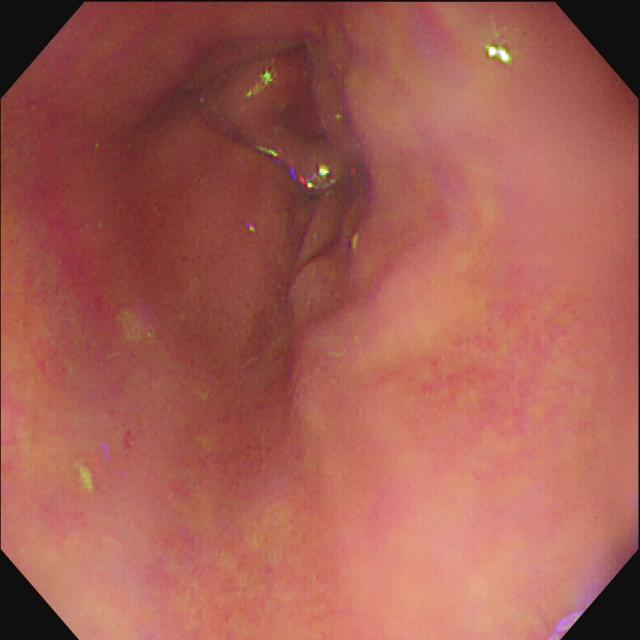U: (289, 165, 338, 192), (246, 68, 277, 100), (486, 46, 514, 67)
